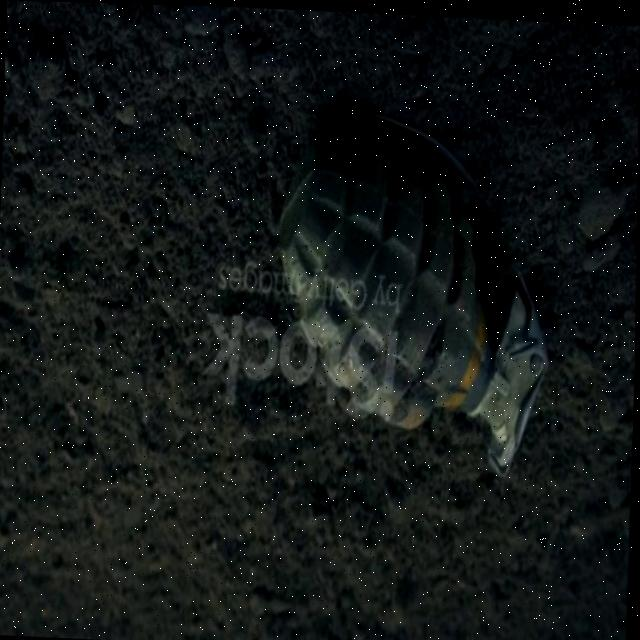grenade: (254, 103, 561, 479)
